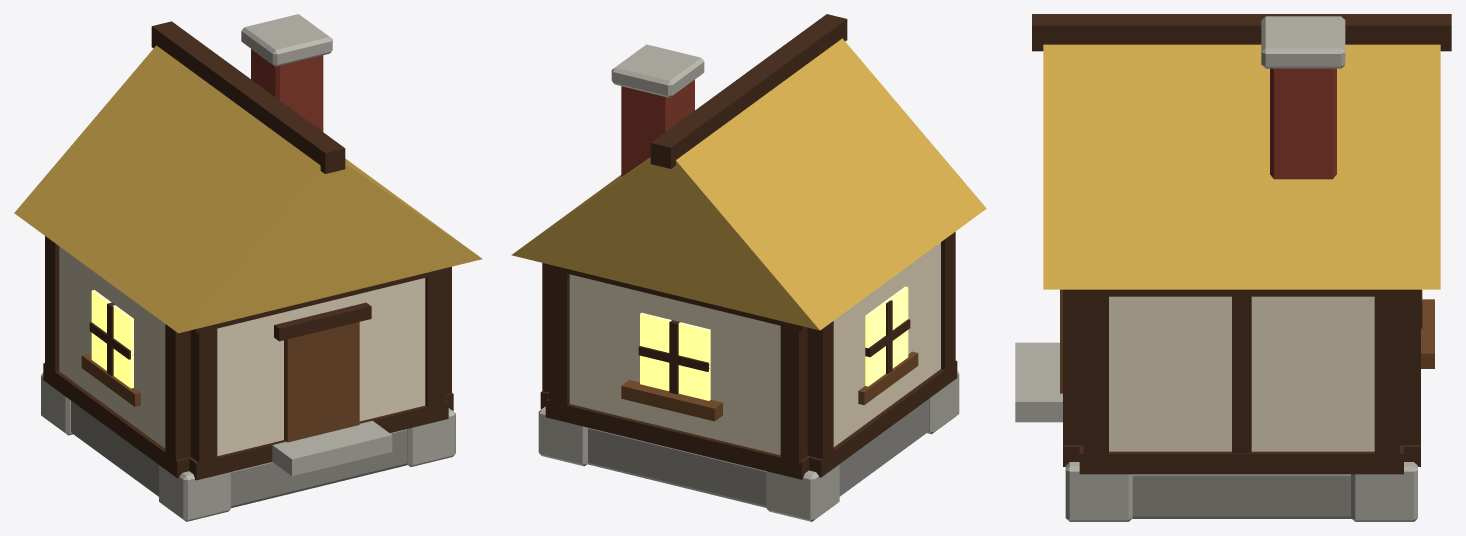
The model's file is cottage.glb.
3 views of the same model, side by side, from view 1: azimuth 30°, elevation 25°; view 2: azimuth 150°, elevation 25°; view 3: azimuth 270°, elevation 25° (orthographic). The views are drawn at different scales.
Visible parts, largest first — view 1: roof_body, wall_plaster, wall_plaster.002, door_leaf, foundation_core, roof_ridge, post, door_step, chimney_shaft, post.004, chimney_cap, post.001 (+11 smaller); view 2: roof_body, wall_plaster.001, wall_plaster.002, foundation_core, roof_ridge, beam_bot.001, post.003, win_pane, chimney_shaft, post.005, chimney_cap, corner_brick.001 (+12 smaller); view 3: roof_body, wall_plaster.003, roof_ridge, foundation_core, beam_bot.003, chimney_shaft, post.006, post.007, chimney_cap, door_step, corner_brick.002, corner_brick.003 (+5 smaller).
Boxes of the visible parts, x1=… form: roof_body: x1=14, y1=45, x2=482, y2=333; wall_plaster: x1=217, y1=278, x2=425, y2=456; wall_plaster.002: x1=59, y1=246, x2=165, y2=448; door_leaf: x1=284, y1=322, x2=359, y2=442; foundation_core: x1=71, y1=401, x2=407, y2=507; roof_ridge: x1=151, y1=21, x2=345, y2=173; post: x1=190, y1=324, x2=217, y2=479; door_step: x1=272, y1=420, x2=392, y2=476; chimney_shaft: x1=251, y1=49, x2=323, y2=131; post.004: x1=165, y1=324, x2=190, y2=467; chimney_cap: x1=241, y1=14, x2=332, y2=66; post.001: x1=425, y1=272, x2=445, y2=423; roof_body: x1=511, y1=38, x2=986, y2=330; wall_plaster.001: x1=569, y1=274, x2=780, y2=455; wall_plaster.002: x1=833, y1=242, x2=940, y2=446; foundation_core: x1=587, y1=399, x2=928, y2=507; roof_ridge: x1=650, y1=14, x2=847, y2=168; beam_bot.001: x1=545, y1=398, x2=810, y2=479; post.003: x1=780, y1=321, x2=807, y2=478; win_pane: x1=640, y1=312, x2=710, y2=400; chimney_shaft: x1=621, y1=80, x2=694, y2=176; post.005: x1=807, y1=321, x2=833, y2=475; chimney_cap: x1=611, y1=44, x2=704, y2=97; corner_brick.001: x1=766, y1=464, x2=839, y2=521; roof_body: x1=1043, y1=44, x2=1440, y2=289; wall_plaster.003: x1=1109, y1=296, x2=1374, y2=451; roof_ridge: x1=1032, y1=14, x2=1451, y2=51; foundation_core: x1=1132, y1=474, x2=1351, y2=518; beam_bot.003: x1=1079, y1=445, x2=1403, y2=474; chimney_shaft: x1=1270, y1=68, x2=1336, y2=179; post.006: x1=1374, y1=290, x2=1399, y2=474; post.007: x1=1083, y1=289, x2=1108, y2=474; chimney_cap: x1=1261, y1=16, x2=1345, y2=68; door_step: x1=1015, y1=342, x2=1062, y2=422; corner_brick.002: x1=1065, y1=462, x2=1132, y2=521; corner_brick.003: x1=1351, y1=462, x2=1417, y2=521.
Size of the model in its own units: 1.52 by 1.77 by 1.56.
